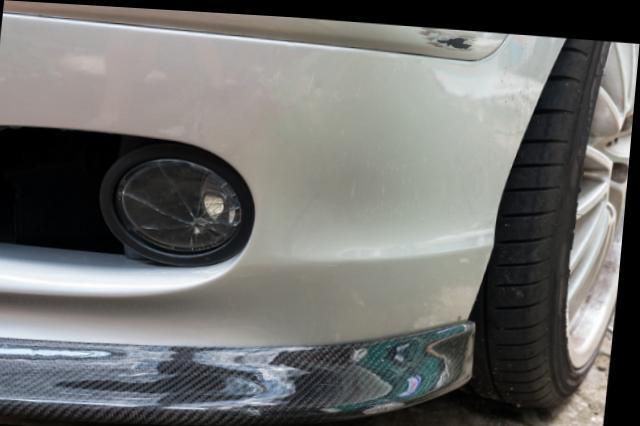lamp broken: (121, 157, 244, 251)
scratch: (404, 20, 488, 48)
